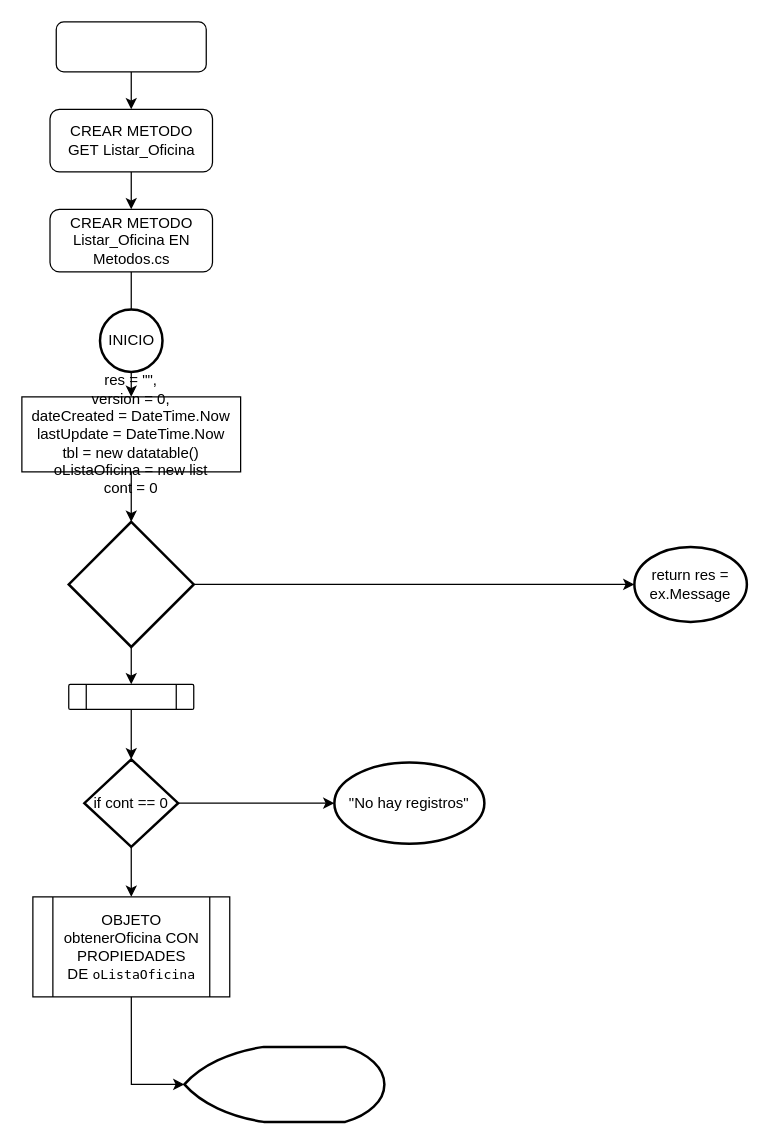
Image size: 770x1145. Some labels were removed from this diagram. The centre of each missing label's shape, as x and y in pixels:
"CREAR CLASS obtenerOficina" goes at (x=130, y=46).
"LISTA DE OBJETOS 'obtenerOficina'" goes at (x=283, y=1083).
"mandaQry" goes at (x=131, y=696).
"try catch" goes at (x=130, y=584).
